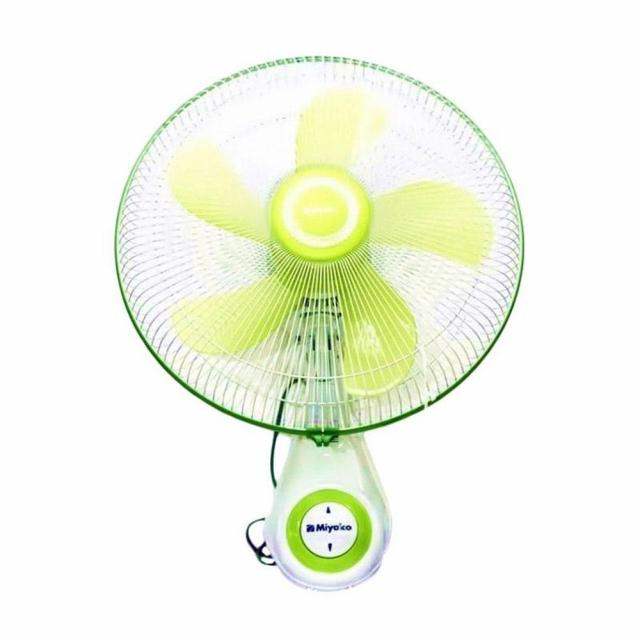fan: (76, 29, 536, 604)
